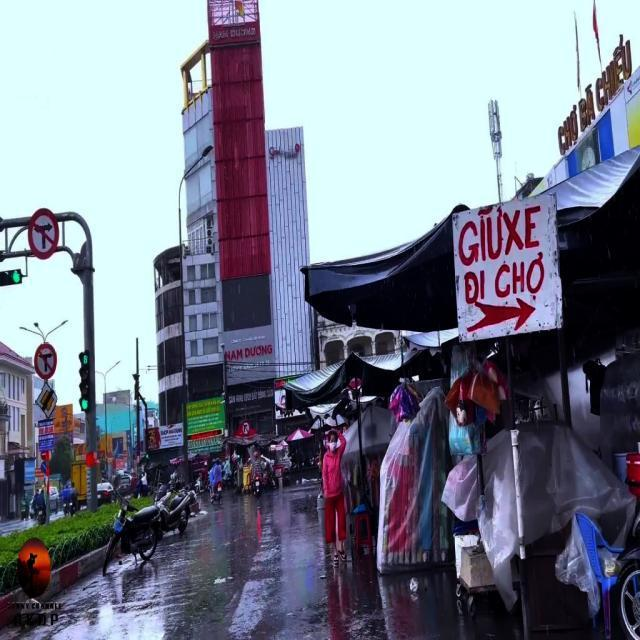123b-cam-re-phai: (242, 421, 250, 435)
137-cam-re-trai-va-re-phai: (26, 208, 59, 260), (33, 344, 59, 378)
